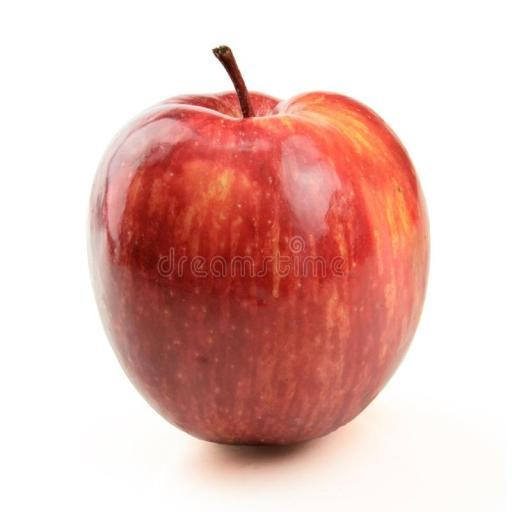apple: (89, 47, 428, 443)
